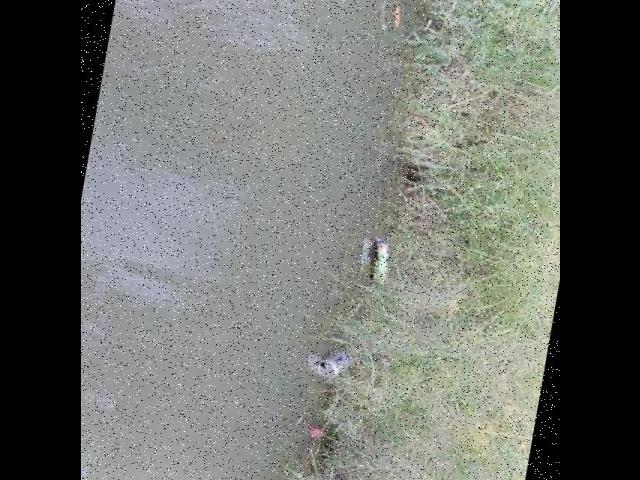Bottle: (361, 239, 393, 285), (310, 348, 352, 378)
Waste: (302, 418, 326, 446), (384, 3, 402, 29)
